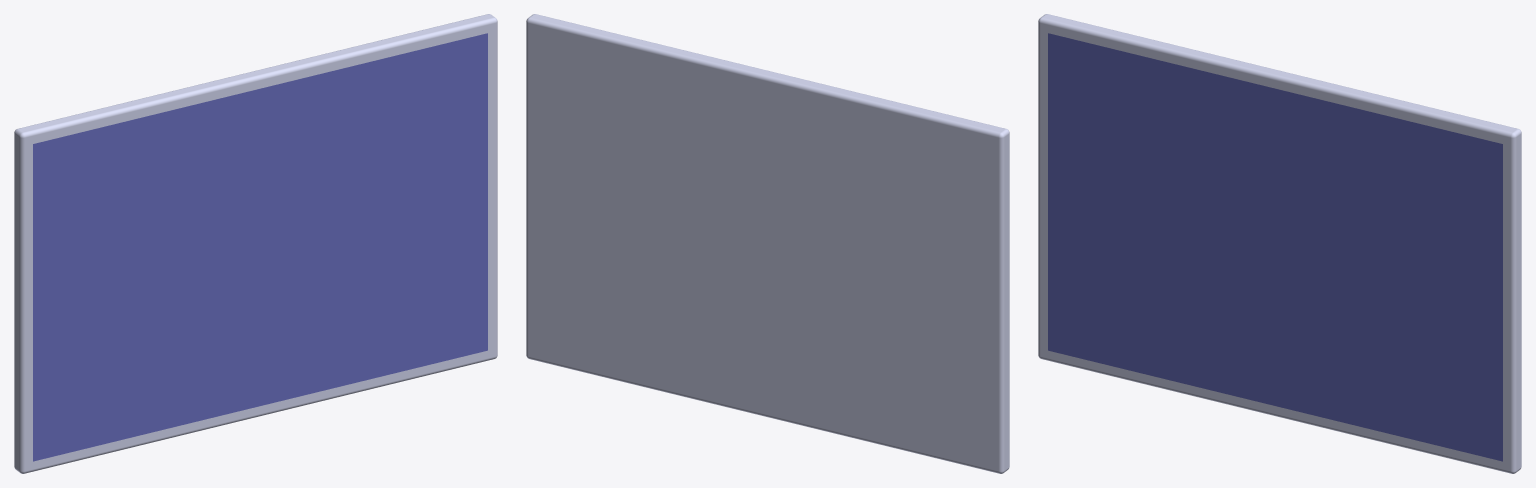
The model's file is artFrame.glb.
3 renders of one model, left to right at view 1: azimuth 30°, elevation 25°; view 2: azimuth 150°, elevation 25°; view 3: azimuth 330°, elevation 25°, orthographic.
Visible parts, largest first — view 1: art, frame; view 2: frame; view 3: art, frame.
Boxes of the visible parts, box(x1,y1,x2,y2) form: art: box(33, 33, 487, 461); frame: box(14, 14, 497, 473); frame: box(526, 14, 1009, 473); art: box(1048, 33, 1502, 461); frame: box(1038, 14, 1521, 473).
Size of the model in its own units: 1.26 by 0.86 by 0.041.
